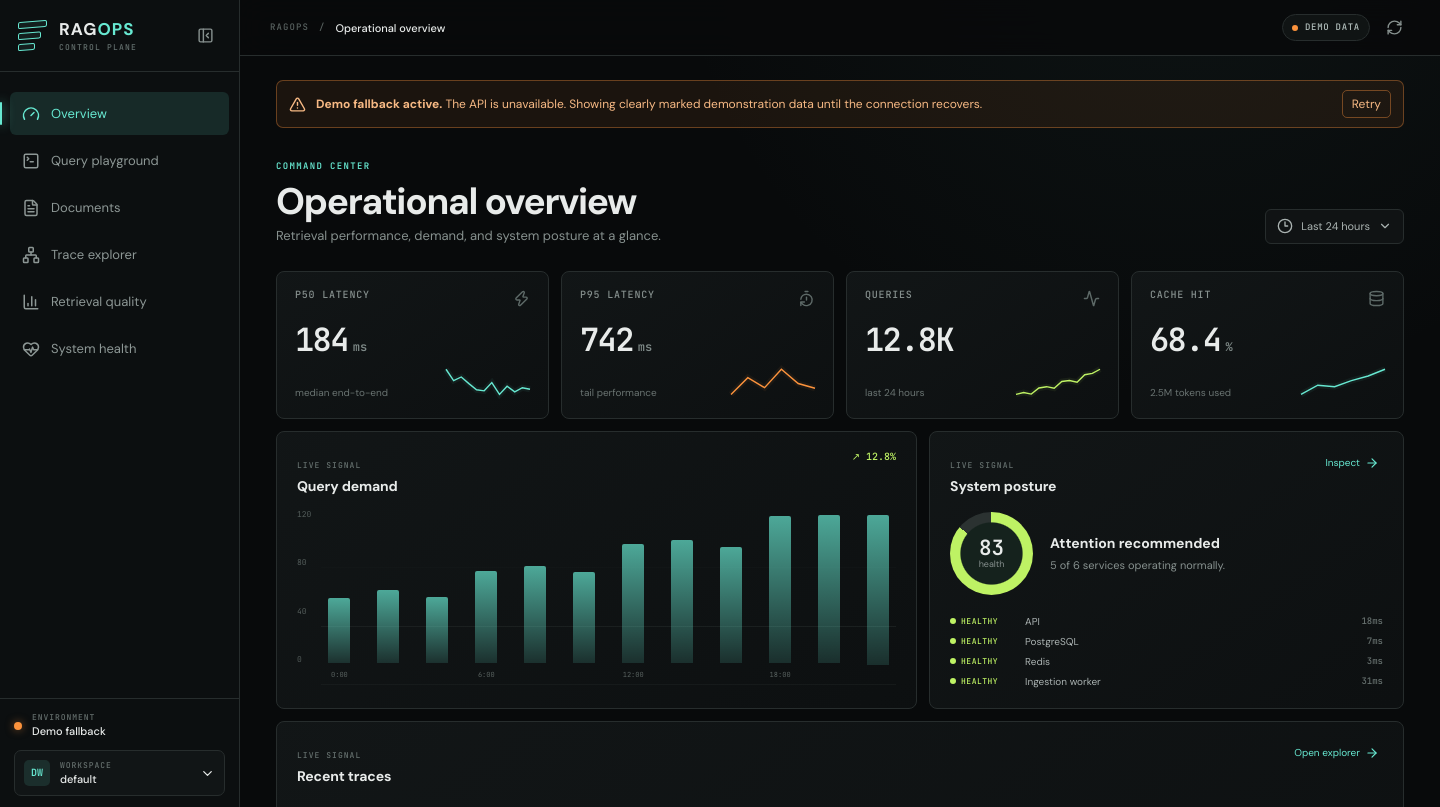
Test: RAGOps console › filters the demo document list
Expected: the text "Demo fallback active." is shown, [316,96,442,112]
Click the button "Documents" at (120, 208), box [10,186,229,229]
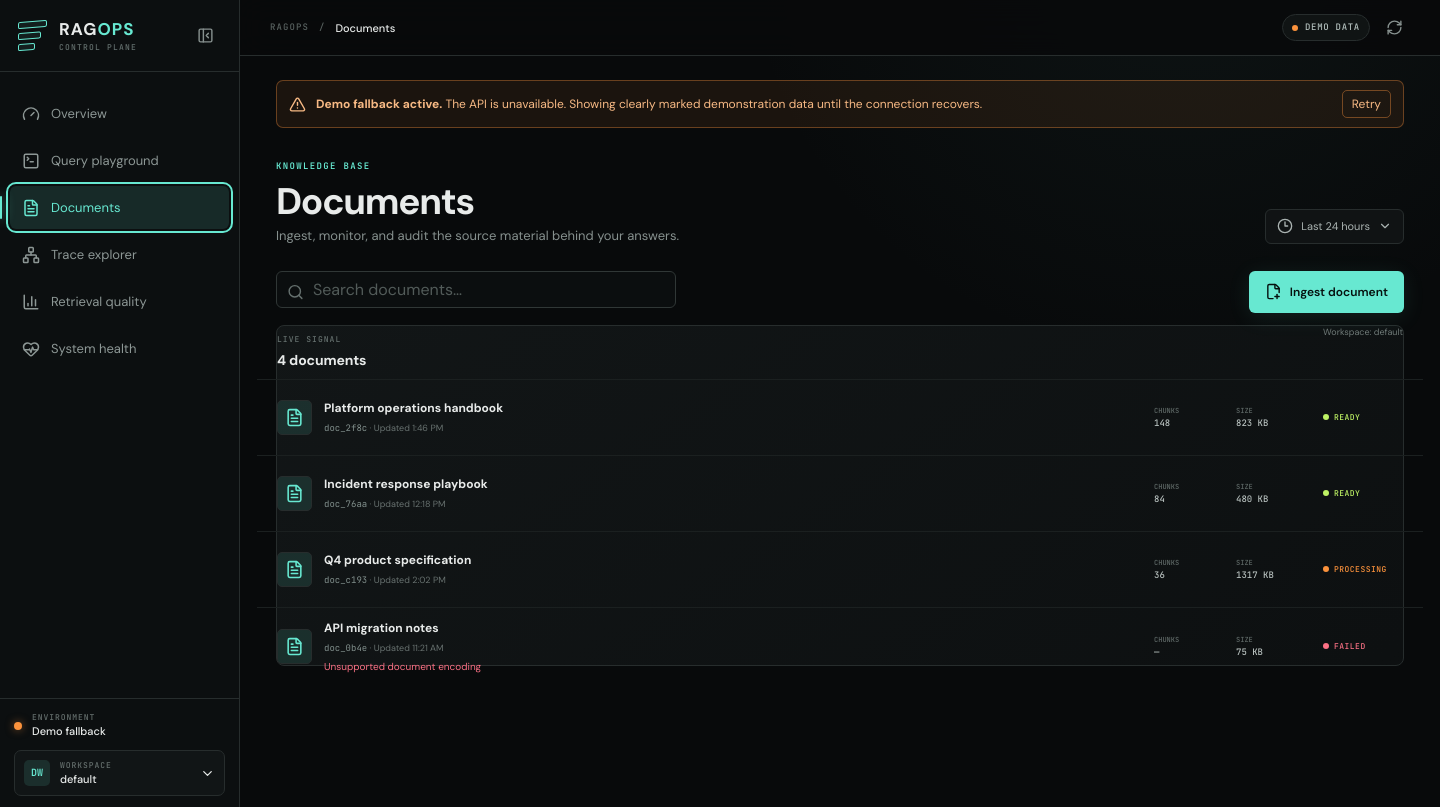
Type "incident" into the field labelled "Search documents" at (476, 289), box [276,271,676,308]
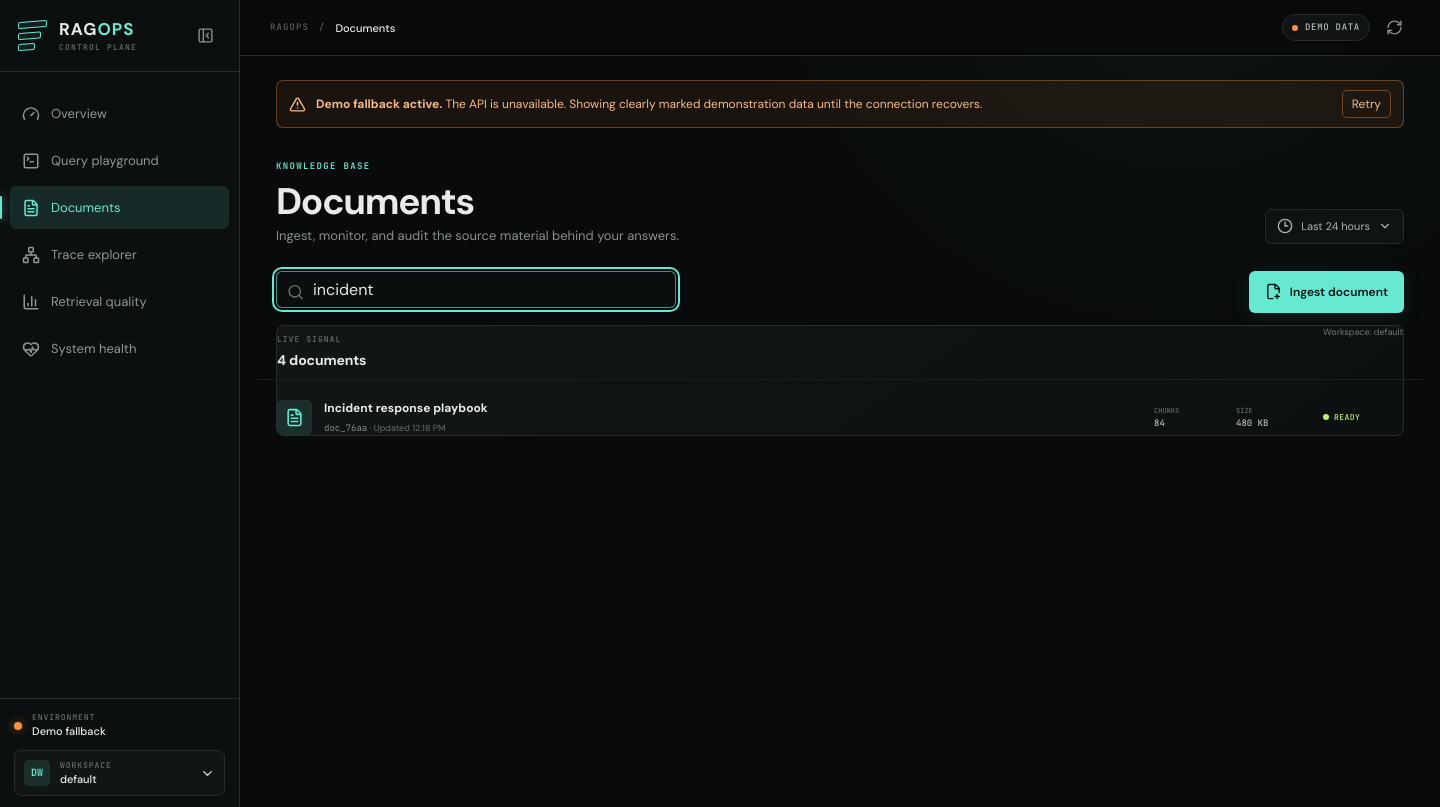
Result: the text "Incident response playbook" is shown at [324,400,488,416]
Result: the text "Platform operations handbook" is gone
